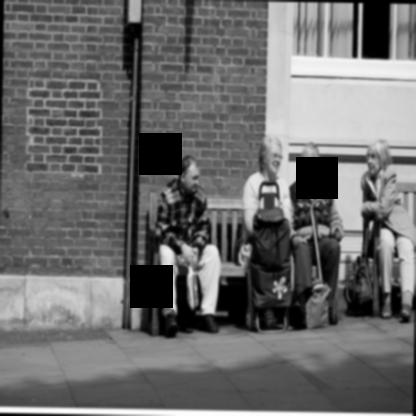backpack: (343, 280, 374, 318), (351, 251, 373, 301)
handbag: (304, 273, 331, 328), (186, 265, 199, 309), (338, 282, 346, 312)
suitcase: (246, 177, 291, 329)
